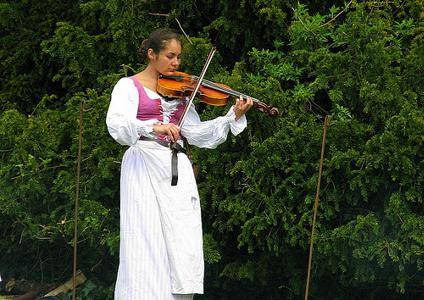person: (107, 30, 253, 300)
